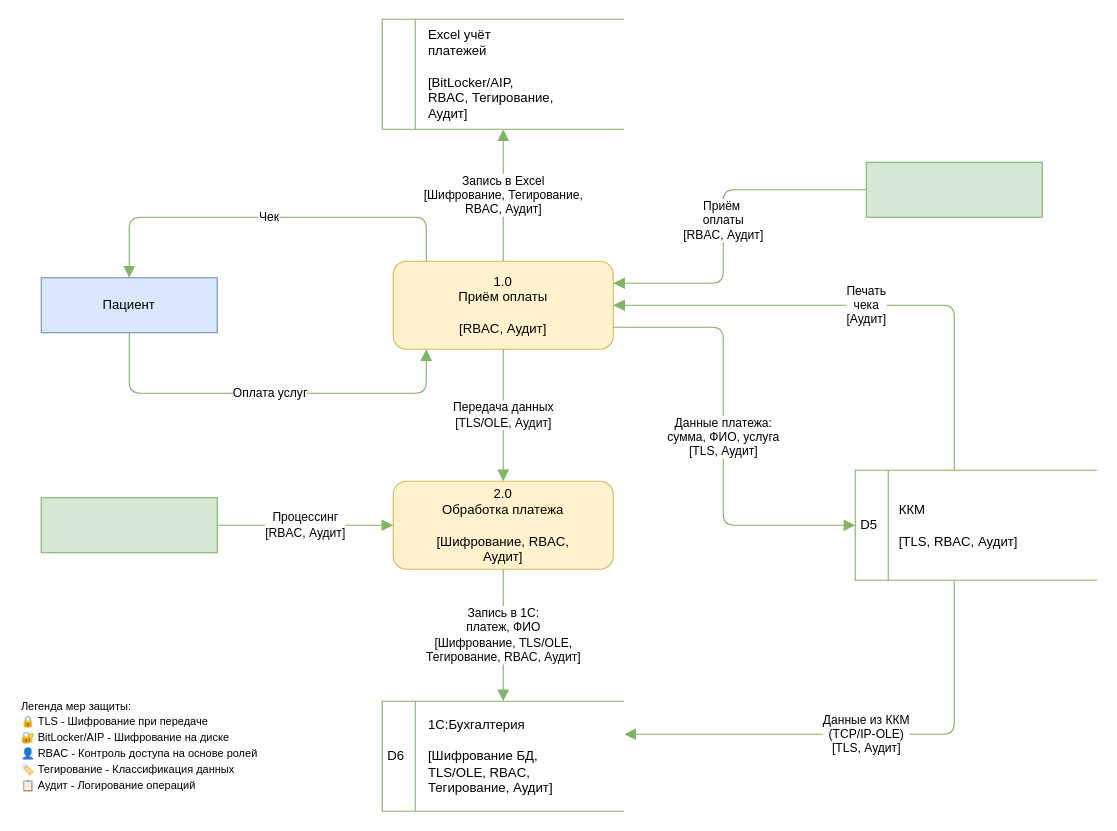
Image size: 1117x831. Some labels were removed from this diagram. Here are the shapes that lost their labels. From the top down, the box of each, then its label:
(381, 18, 624, 129): D7
(865, 161, 1042, 217): Кассир
(40, 497, 217, 553): Бухгалтер
